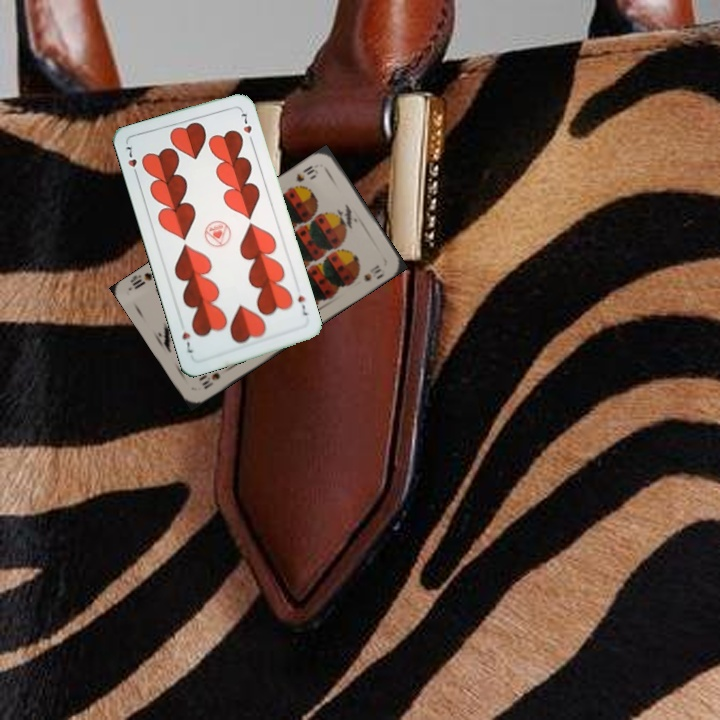H7: (121, 142, 141, 180), (294, 291, 312, 318)
S10: (292, 161, 321, 185), (196, 368, 223, 392)
